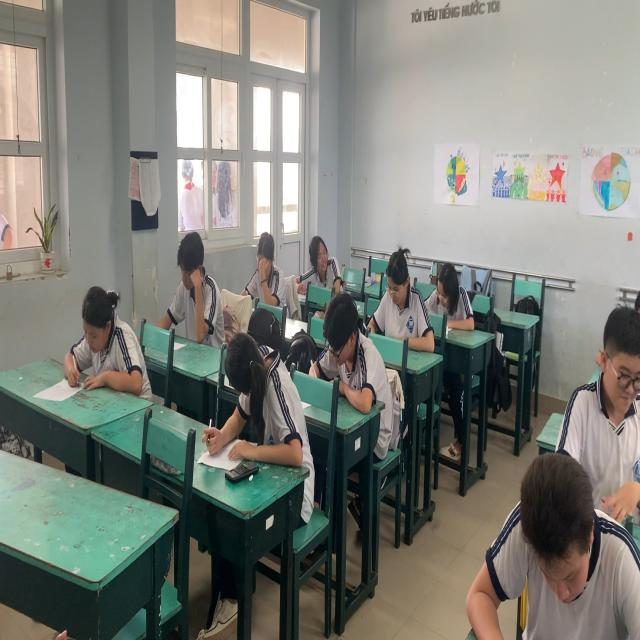cheating: (206, 330, 306, 475), (299, 220, 339, 292)
not_cheating: (458, 457, 616, 627), (62, 279, 145, 399), (580, 302, 640, 457), (154, 223, 224, 348), (368, 240, 430, 344), (306, 288, 374, 382), (425, 244, 474, 334), (237, 226, 287, 305)
